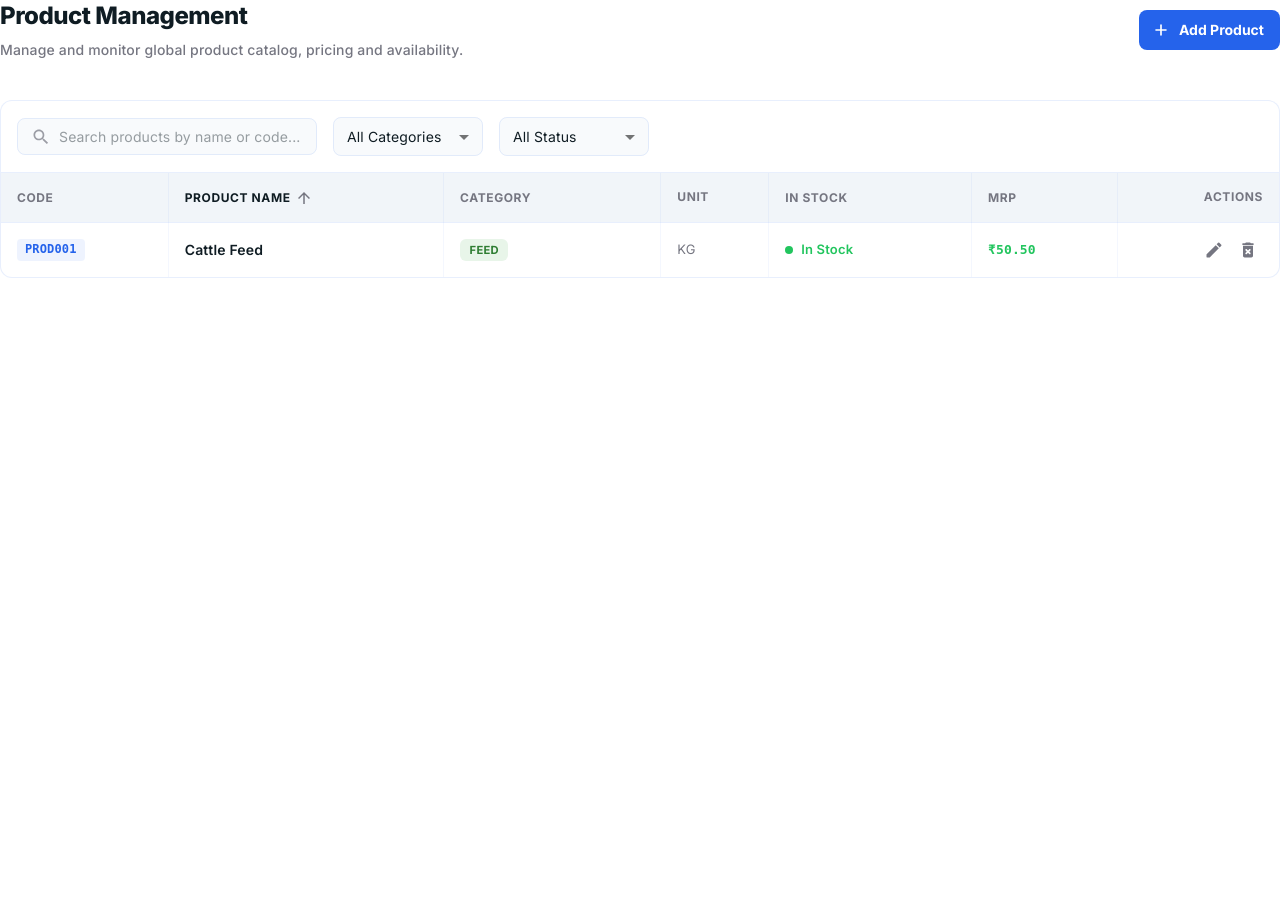
it: ProductsPage › opens modal when Add Product button is clicked
What coordinates should you click on to do the following:
click the button "Add Product"
I would click on:
 (1210, 30)
Its box is [1139, 10, 1279, 50].
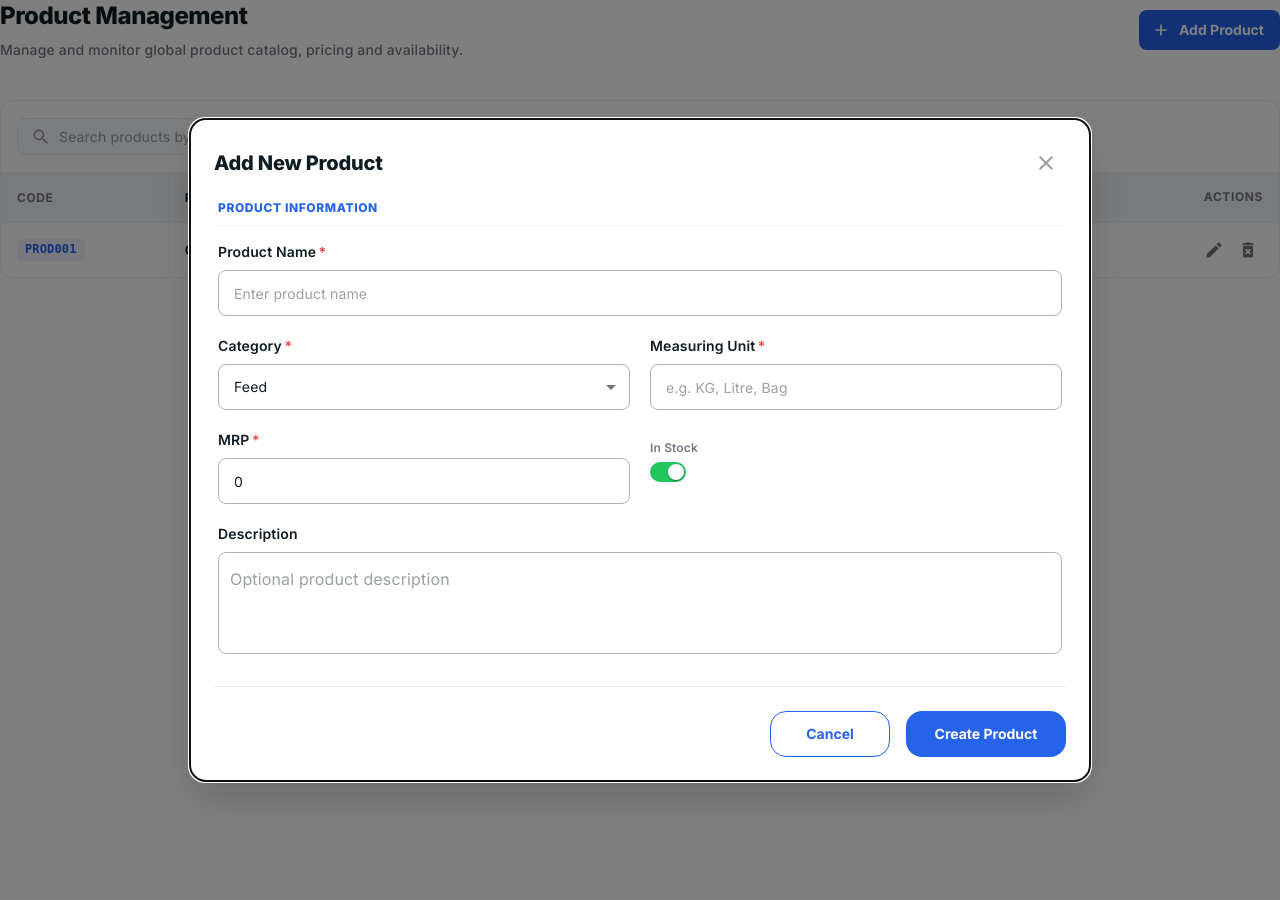
Expected: the heading "Add New Product" is shown, [214, 147, 383, 179]
